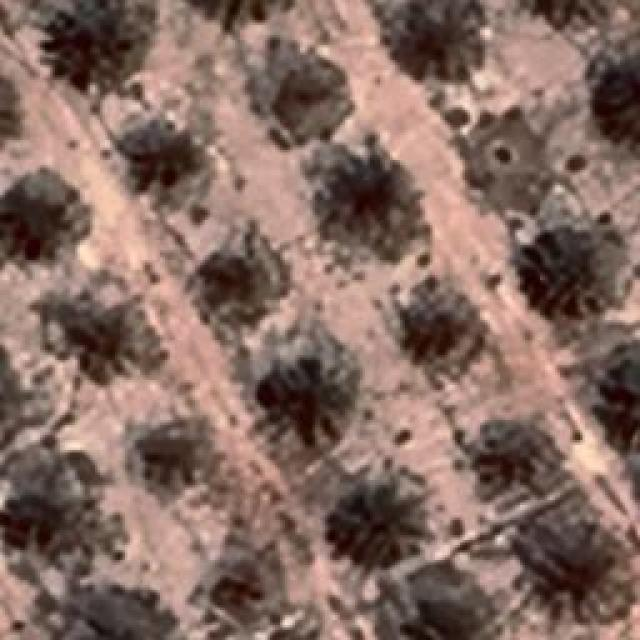PalmTree: (48, 102, 443, 617), (89, 45, 616, 102), (330, 465, 428, 565), (48, 0, 150, 85), (132, 420, 216, 505), (119, 118, 199, 206), (408, 0, 498, 78), (4, 172, 84, 256), (255, 356, 343, 424), (525, 230, 610, 300), (407, 298, 475, 372), (541, 528, 611, 598), (200, 248, 265, 322), (335, 164, 400, 232), (68, 598, 166, 640), (56, 296, 119, 356), (605, 350, 640, 448), (9, 486, 59, 546), (480, 429, 530, 489), (182, 0, 298, 24), (518, 0, 614, 27), (0, 64, 22, 152), (0, 60, 15, 153)
